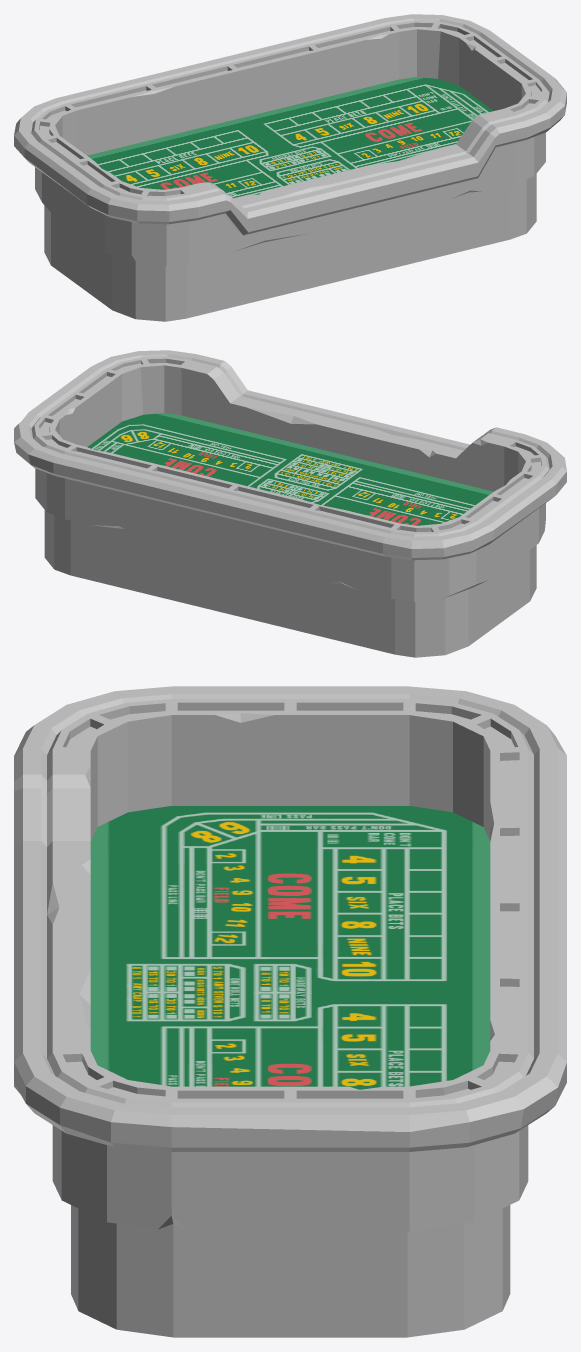
The model's file is SM_Prop_Craps_Table_01.fbx.
3 renders of one model, top to bottom at view 1: azimuth 30°, elevation 25°; view 2: azimuth 150°, elevation 25°; view 3: azimuth 270°, elevation 25°, orthographic. The views are drawn at different scales.
Parts seen in each view (by area): view 1: SM_Prop_Craps_Table_01; view 2: SM_Prop_Craps_Table_01; view 3: SM_Prop_Craps_Table_01.
Boxes of the visible parts, left/top/right/bottom form: SM_Prop_Craps_Table_01: left=14, top=14, right=566, bottom=321; SM_Prop_Craps_Table_01: left=14, top=350, right=566, bottom=657; SM_Prop_Craps_Table_01: left=14, top=686, right=566, bottom=1337.
Bounding box in the file's own units: 366 × 94.99 × 196.
